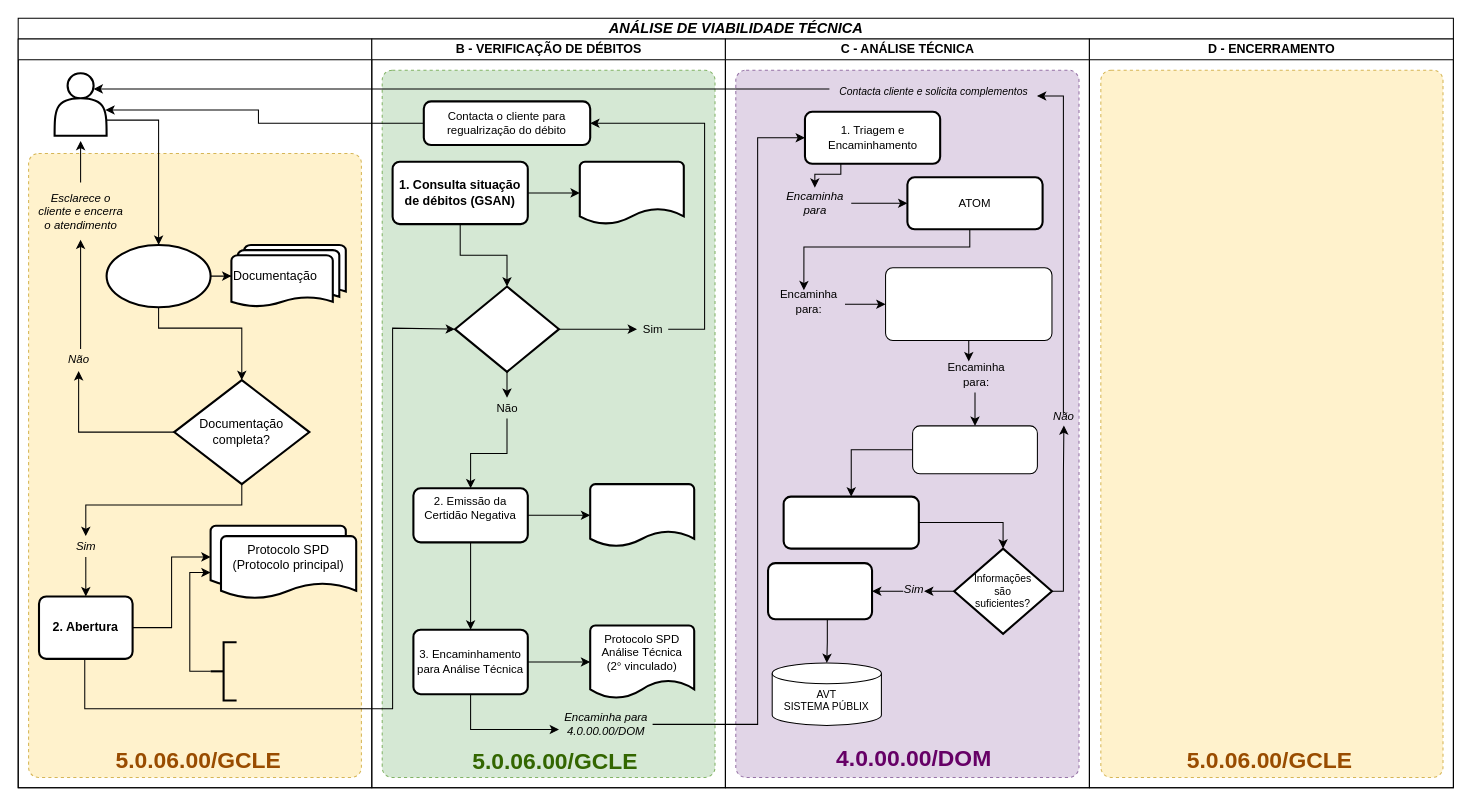
The diagram is 1472 pixels wide and 806 high, and some of its shapes have lost their labels. Each missing label, with the box of its shape:
1. Checklist: (105, 243, 211, 308)
2. Análise e Emissão virtual da AVT: (782, 495, 919, 549)
A - SOLICITAÇÃO: (17, 38, 372, 788)
Anexar arquivo digital do Partido Urbanístico no SPD: (209, 641, 237, 701)
Certidão Negativa de Débitos: (589, 483, 695, 547)
Conclusão da análise e emissão da AVT no PUBLIX: (766, 562, 873, 620)
Extrato de débitos (GSAN): (578, 160, 684, 225)
Gerências Operacionais: (912, 425, 1037, 474)
Há débitos?: (453, 285, 560, 372)
SUSR/SSRA (Água Regional) SUSM/SSMA (Água Metropolitana) SUES/SSES (Esgoto): (885, 267, 1052, 341)
